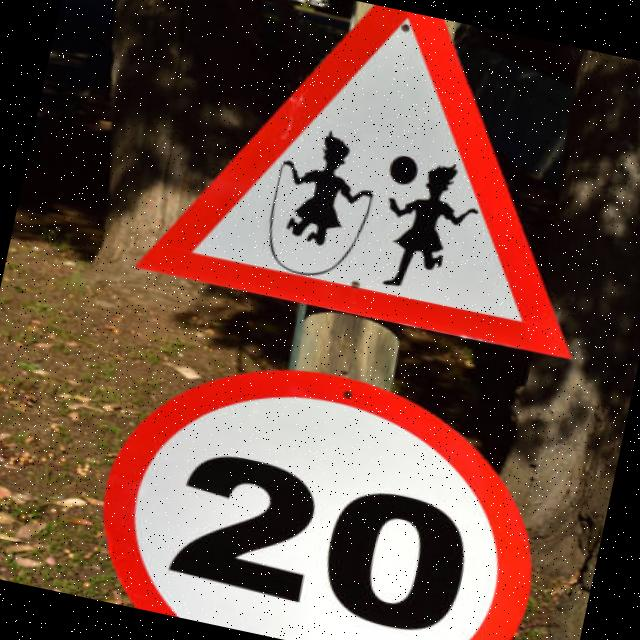speed_limit_20: (62, 313, 569, 640)
